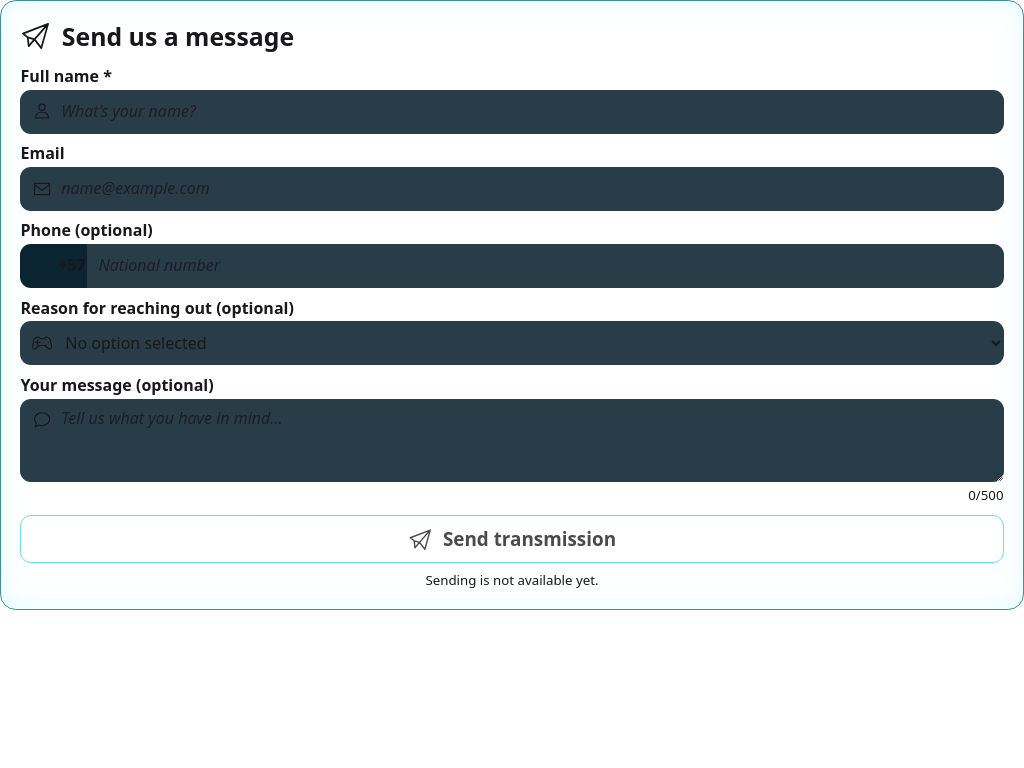
Test: searches for a localized country and calling code in en
Later steps or results of the test are not shown.
Click the button named "Colombia +57".
click(54, 266)  # box [20, 244, 87, 288]
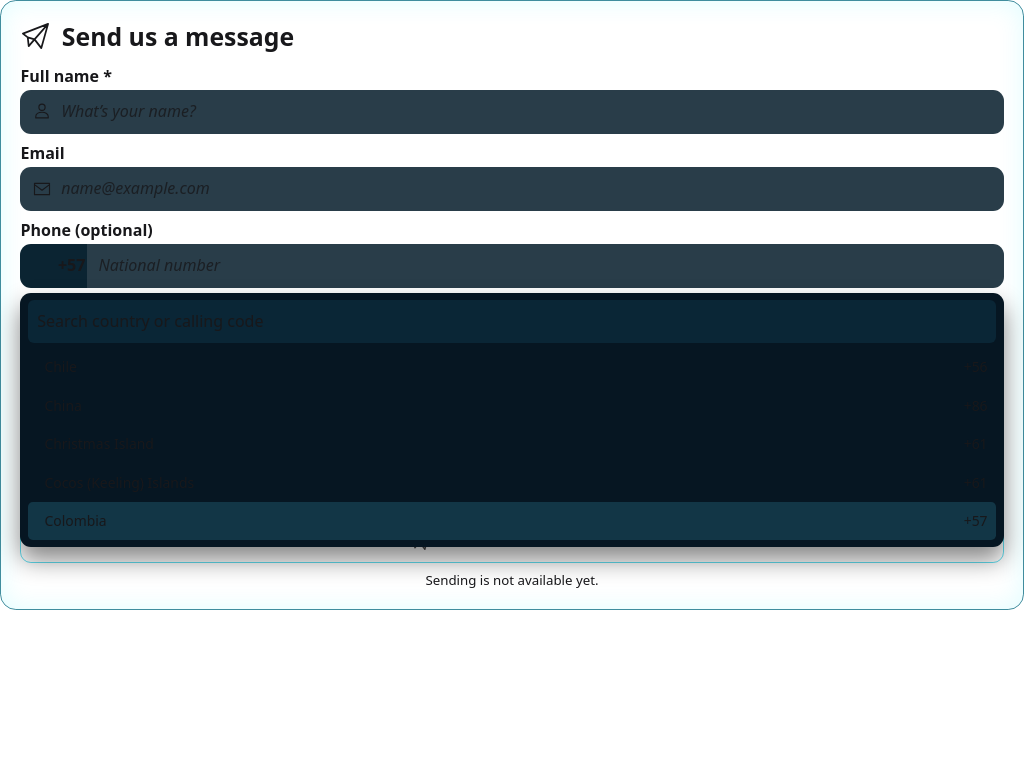
Type "spain" into the dropdown labelled "Search country or calling code".
click(512, 321); type("spain")  # box [28, 300, 996, 342]
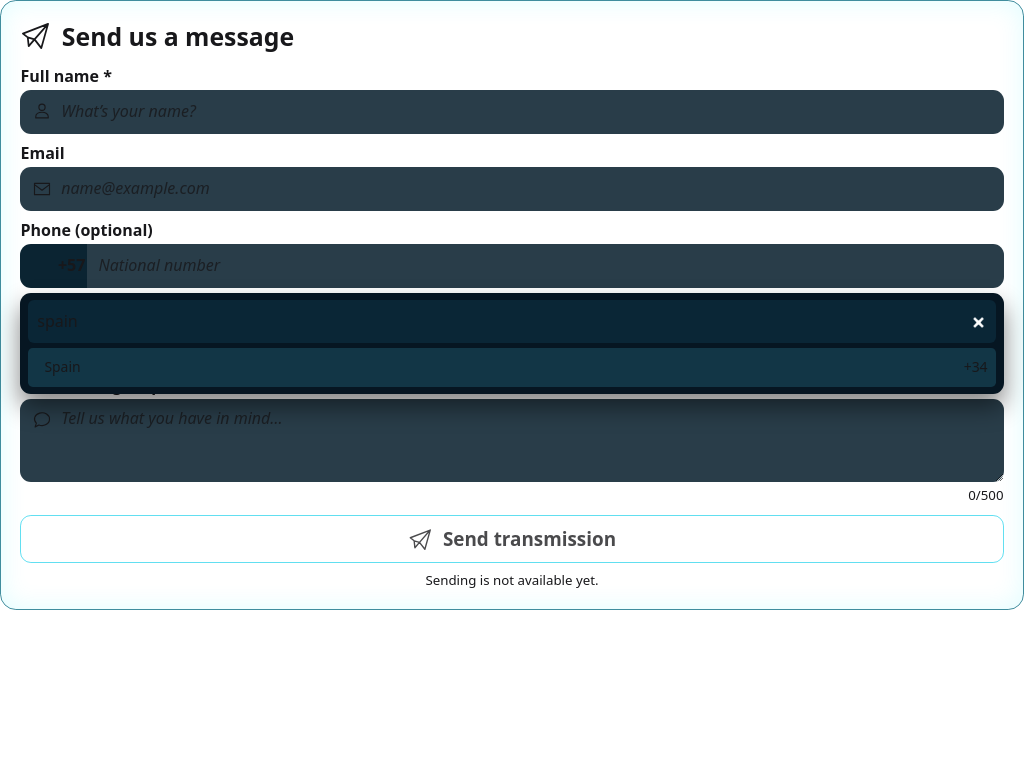
Press Enter in the dropdown named "Search country or calling code", box [28, 300, 996, 342]
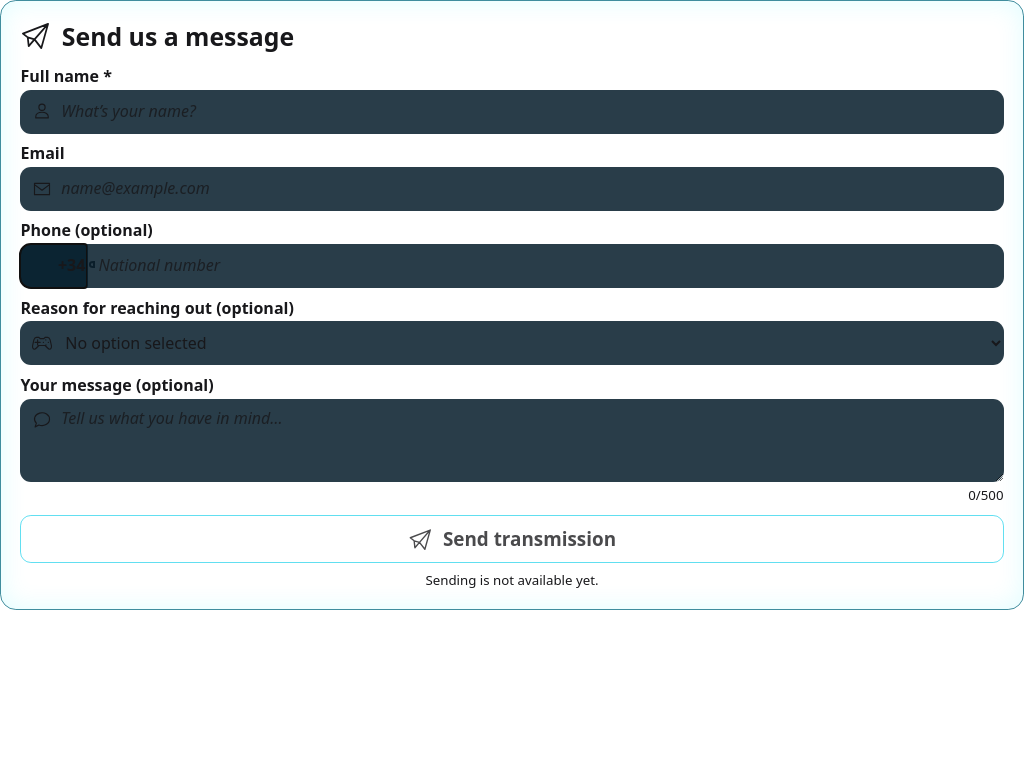
expect the list is gone: met
